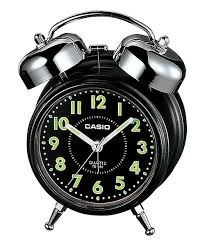alarm_clock: (22, 7, 184, 233)
